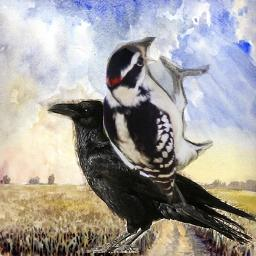Crow: (47, 99, 256, 253)
Woodpecker: (103, 37, 213, 206)
